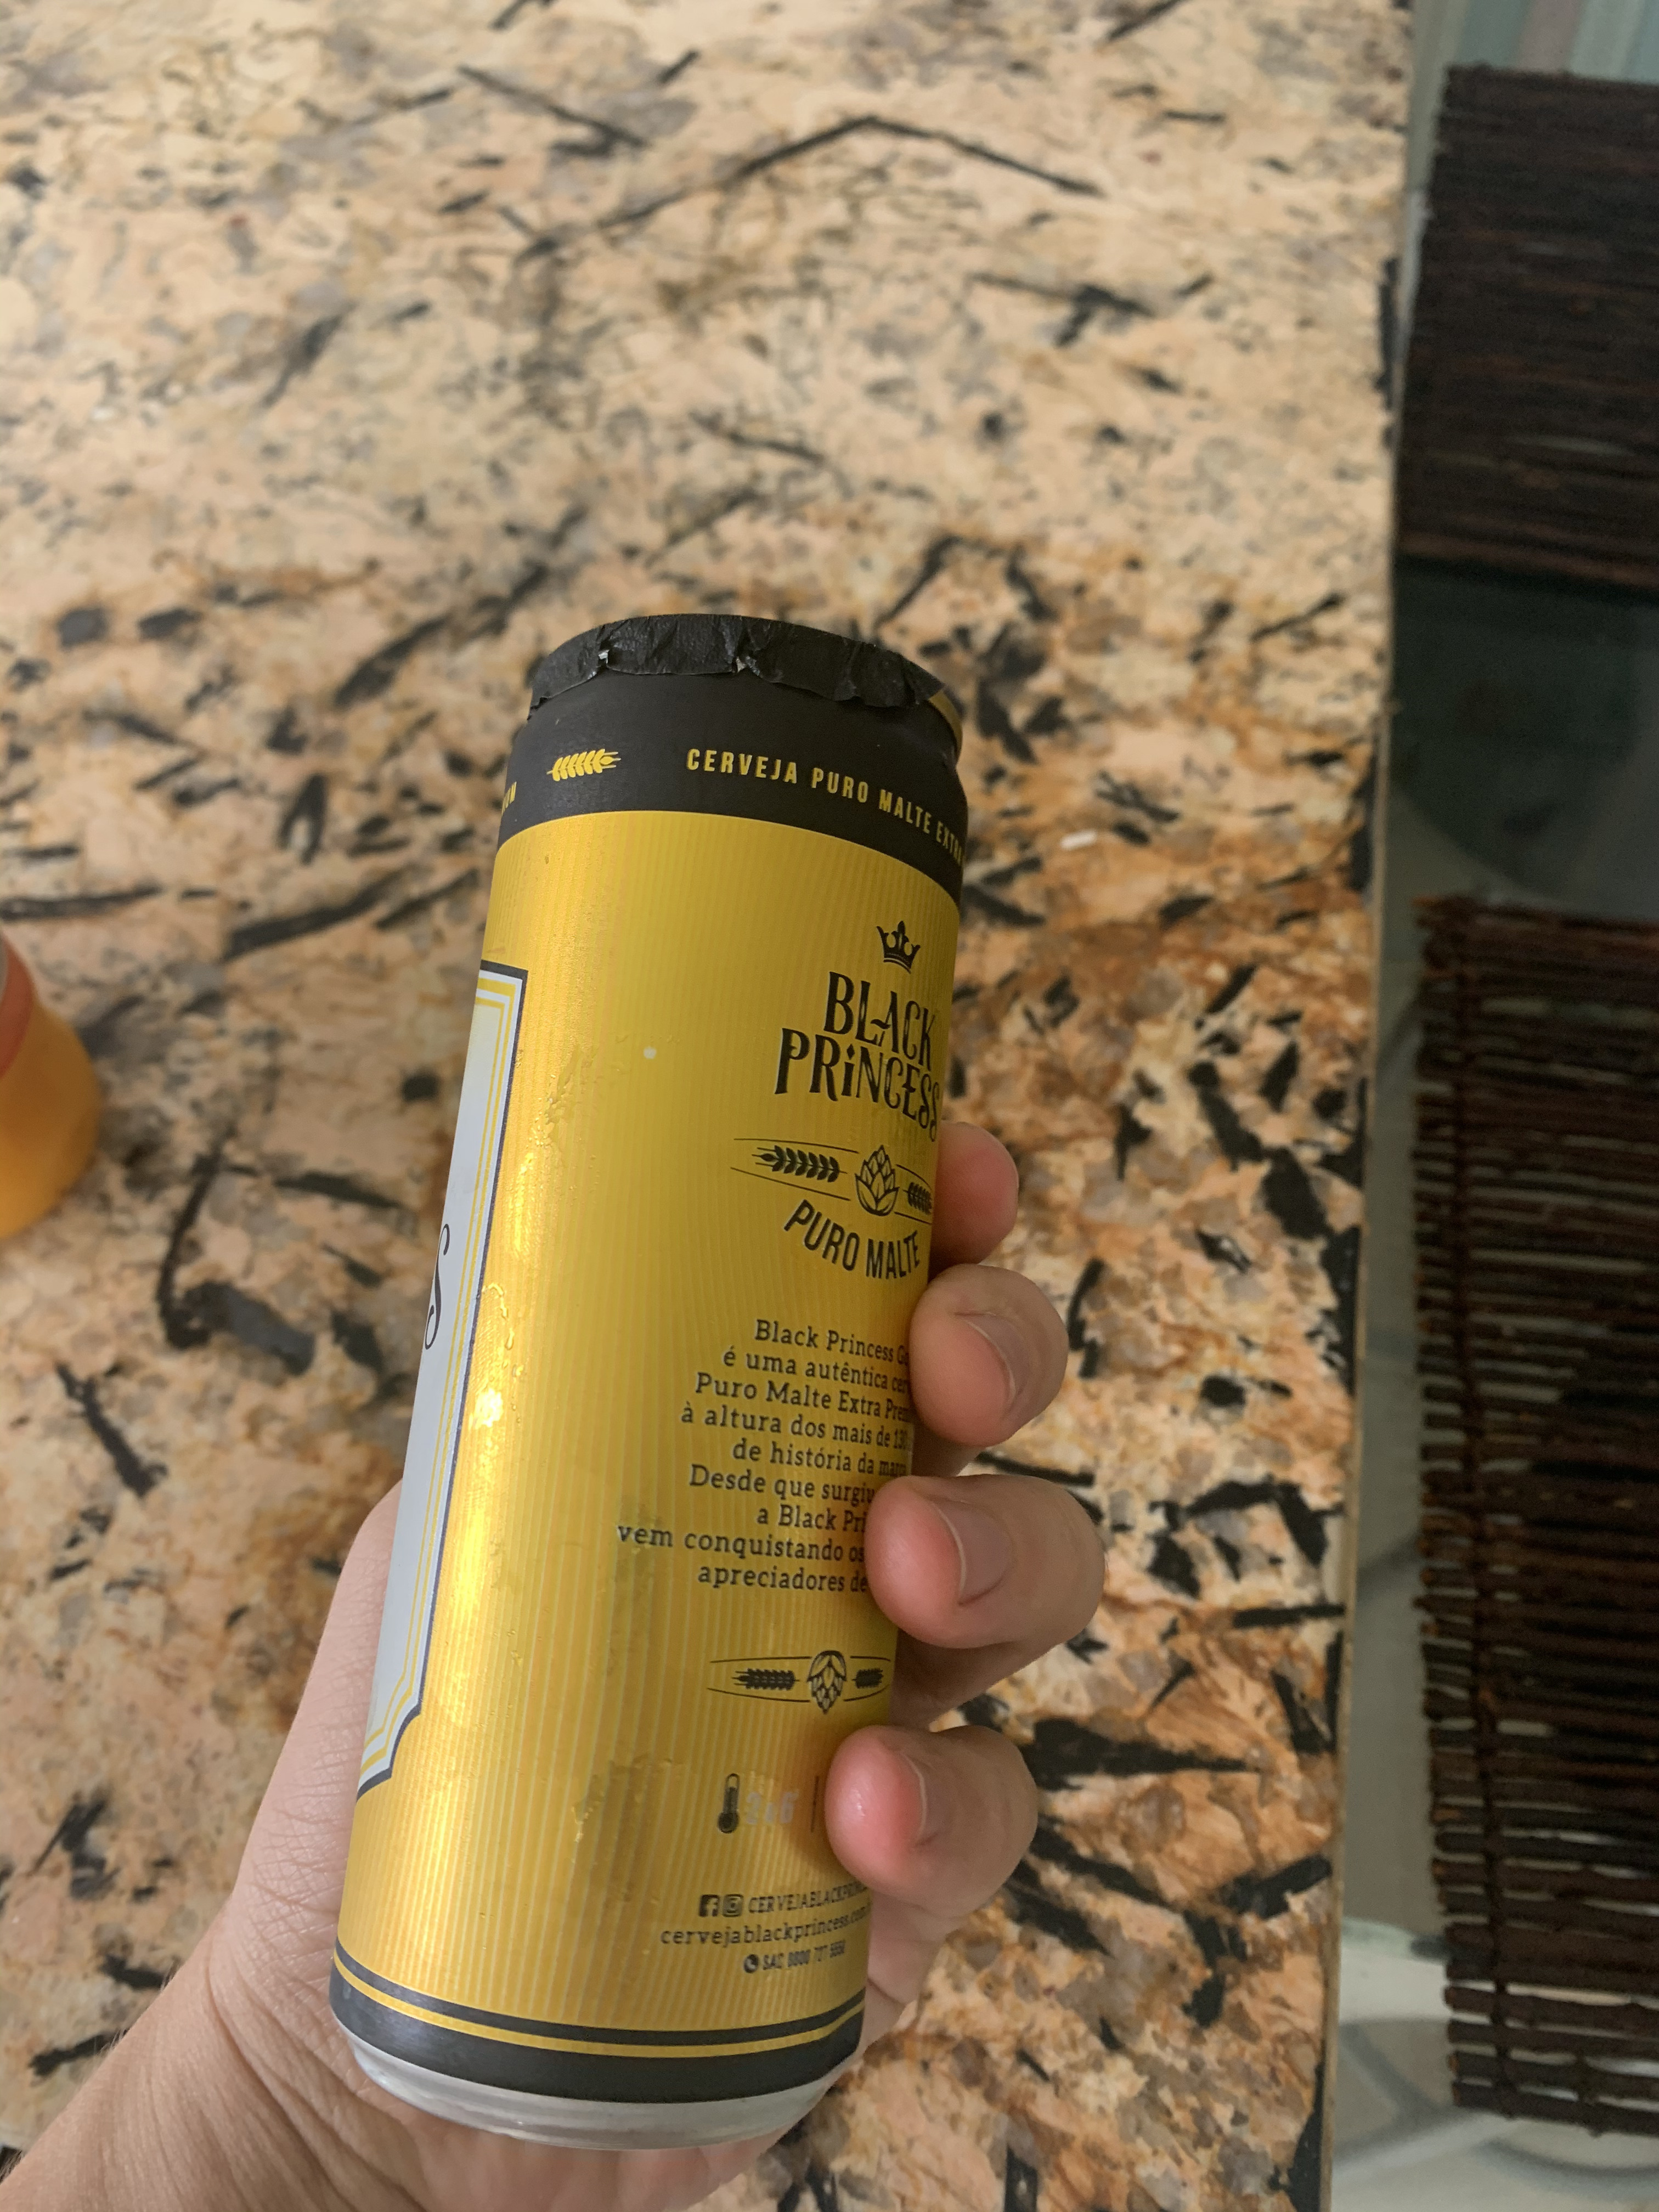blackprincess: (338, 542, 1009, 2165)
